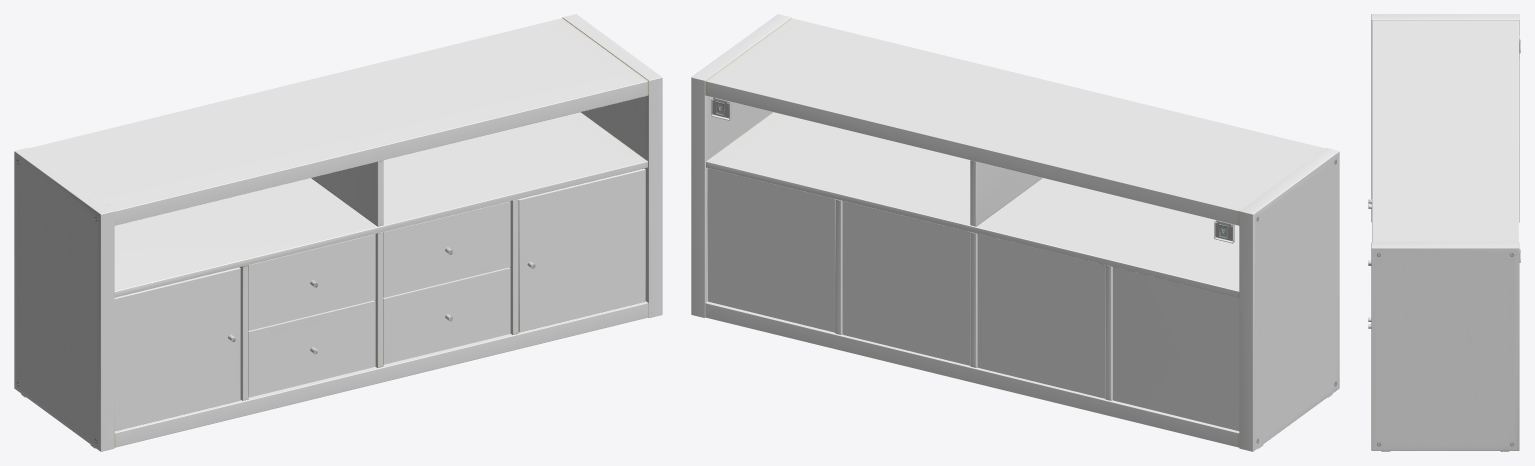
Rendered from kallax_szafka_pod_tv_29560675.glb.
3 views of the same model, side by side, from view 1: azimuth 30°, elevation 25°; view 2: azimuth 150°, elevation 25°; view 3: azimuth 270°, elevation 25° (orthographic). The views are drawn at different scales.
Visible parts, largest first — view 1: kallax_szafka_pod_tv_29560675; view 2: kallax_szafka_pod_tv_29560675; view 3: kallax_szafka_pod_tv_29560675.
Boxes of the visible parts, x1,y1,x2,y2 form: kallax_szafka_pod_tv_29560675: [14, 14, 662, 451]; kallax_szafka_pod_tv_29560675: [691, 14, 1339, 451]; kallax_szafka_pod_tv_29560675: [1368, 14, 1520, 451].
Bounding box in the file's own units: 1.47 × 0.596 × 0.4032.
2 materials, 2 textured.
